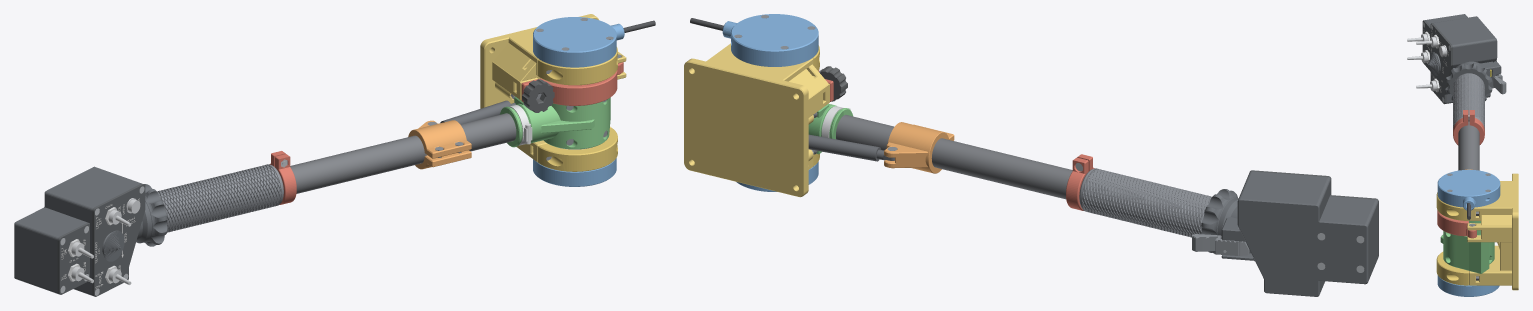
The model's file is HeliCollective_Assembly.glb.
3 renders of one model, left to right at view 1: azimuth 30°, elevation 25°; view 2: azimuth 150°, elevation 25°; view 3: azimuth 270°, elevation 25°, orthographic. The views are drawn at different scales.
Parts seen in each view (by area): view 1: H:Body, carbon_tube, H:Throttle grip, frame, cover_cable, lever_upper, H:Lower panel, strut_collar, cap_left, shoe, cap_right, H:Upper panel (+7 smaller); view 2: frame, H:Body, H:Throttle grip, carbon_tube, cover_cable, strut_collar, gas_strut, H:Trigger, H:Friction collar, lever_lower, friction_knob; view 3: frame, H:Body, cover_cable, H:Throttle grip, carbon_tube, H:Lower panel, lever_upper, lever_lower, cover_sensor, cap_left, shoe, H:Friction collar (+8 smaller).
Boxes of the visible parts, x1,y1,x2,y2 form: H:Body: (14,166,167,295); carbon_tube: (290,113,516,193); H:Throttle grip: (157,164,283,232); frame: (480,14,626,162); cover_cable: (533,17,624,67); lever_upper: (509,98,609,149); H:Lower panel: (92,183,145,296); strut_collar: (408,120,471,169); cap_left: (538,128,617,171); shoe: (521,62,623,105); cap_right: (538,47,617,85); H:Upper panel: (57,222,89,294); frame: (684,43,829,197); H:Body: (1201,171,1378,296); H:Throttle grip: (1079,168,1211,237); carbon_tube: (836,115,1072,199); cover_cable: (723,14,818,66); strut_collar: (884,122,954,173); gas_strut: (808,134,894,161); H:Trigger: (1192,234,1249,255); H:Friction collar: (1066,154,1094,210); lever_lower: (808,104,843,154); friction_knob: (819,66,847,101); frame: (1467,173,1518,290); H:Body: (1425,14,1501,103); cover_cable: (1437,169,1500,210); H:Throttle grip: (1453,73,1484,129); carbon_tube: (1458,121,1479,170); H:Lower panel: (1430,23,1452,104); lever_upper: (1440,220,1468,270); lever_lower: (1469,221,1494,273); cover_sensor: (1437,275,1499,296); cap_left: (1436,251,1468,285); shoe: (1437,210,1476,238); H:Friction collar: (1453,110,1484,145).
Size of the model in its own units: 646 by 130 by 130.
